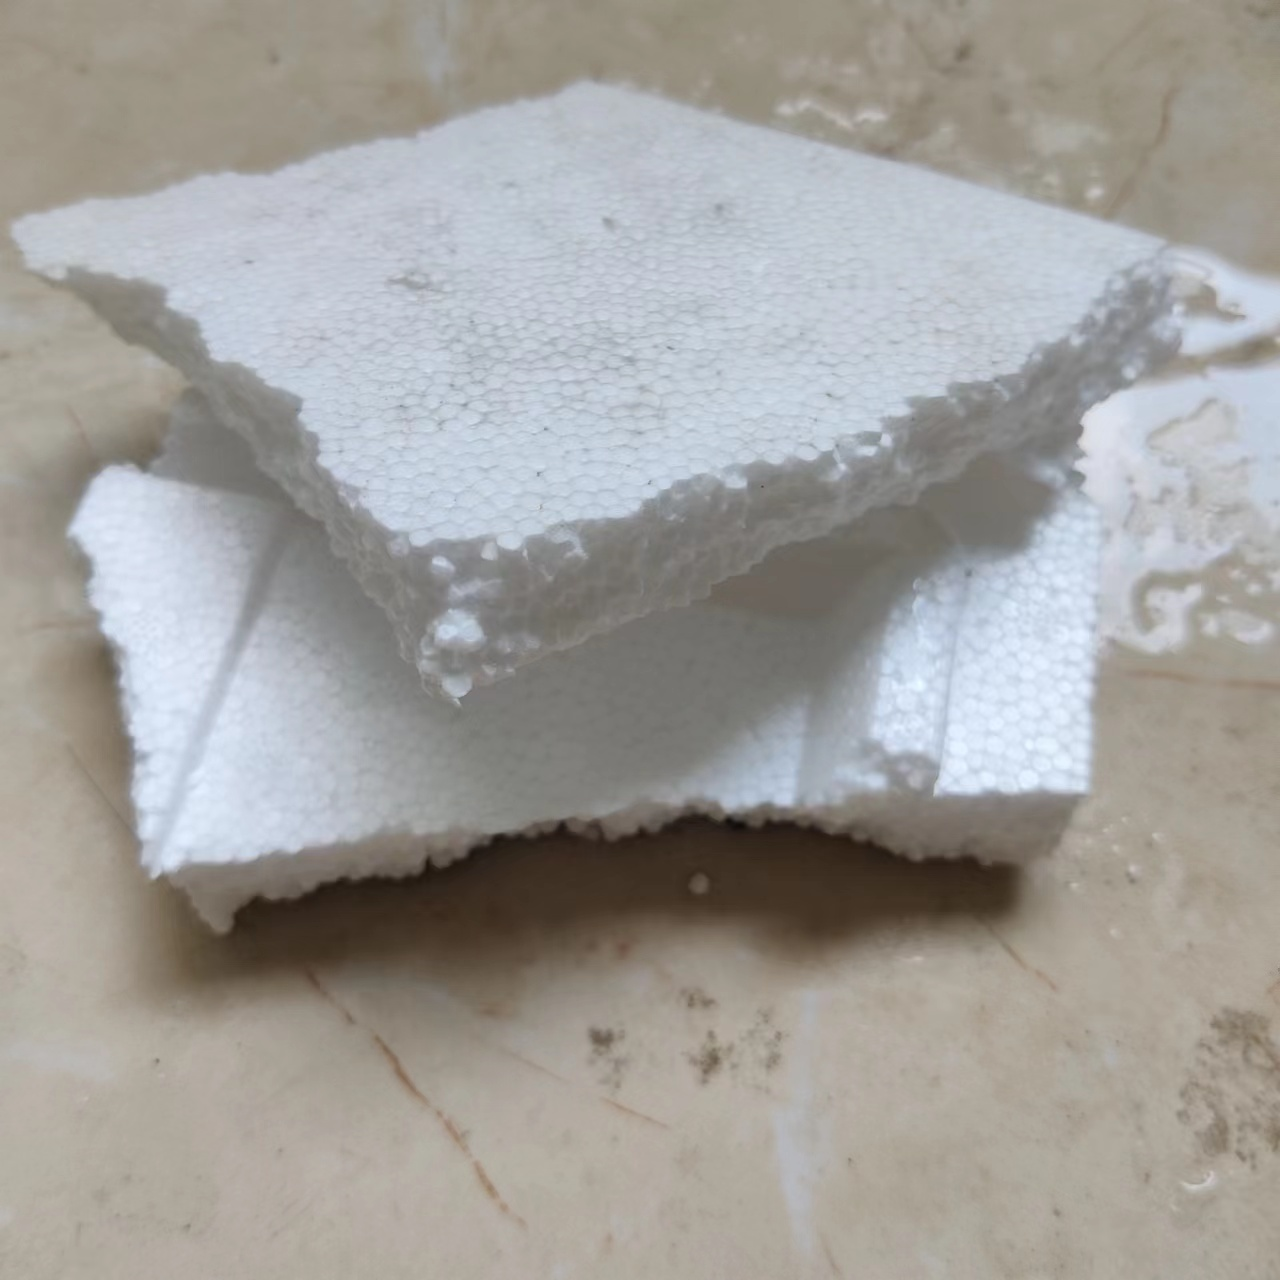5/可回收垃圾/泡沫: (12, 80, 1183, 707), (67, 384, 1097, 932)
